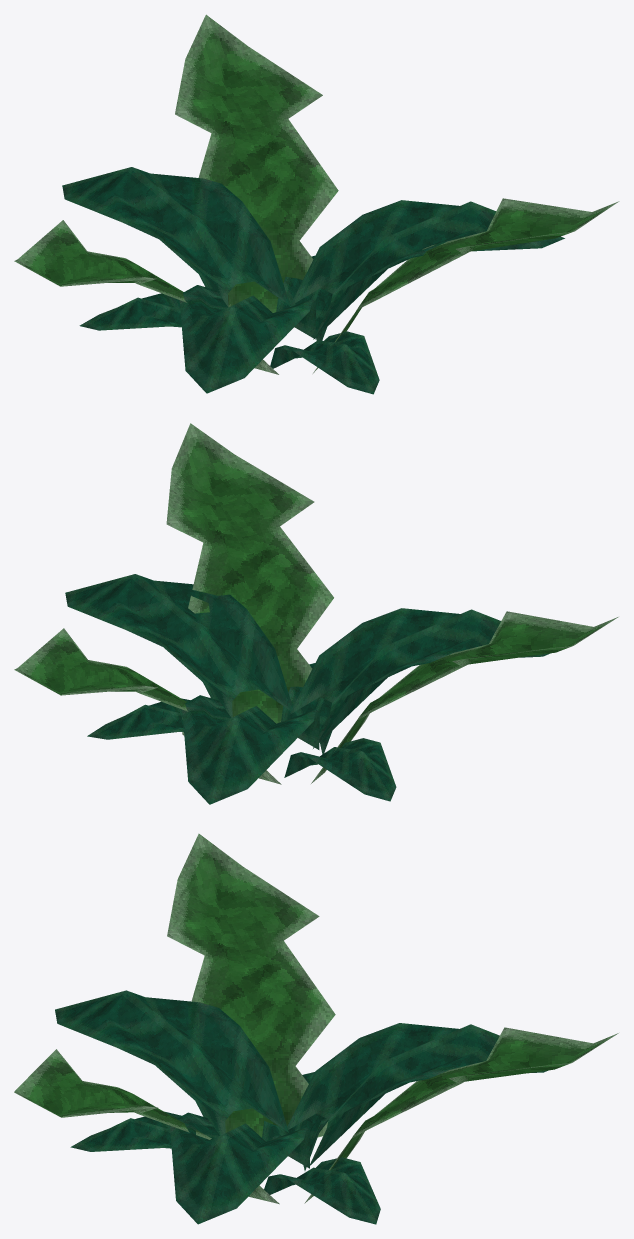
File: grass_04.glb
3 renders of one model, top to bottom at view 1: azimuth 30°, elevation 25°; view 2: azimuth 150°, elevation 25°; view 3: azimuth 270°, elevation 25°, orthographic. The views are drawn at different scales.
Visible parts, largest first — view 1: GRASS_04-no-col; view 2: GRASS_04-no-col; view 3: GRASS_04-no-col.
Boxes of the visible parts, left/top/right/bottom form: GRASS_04-no-col: left=14, top=14, right=619, bottom=394; GRASS_04-no-col: left=14, top=423, right=618, bottom=804; GRASS_04-no-col: left=14, top=833, right=618, bottom=1224.
Bounding box in the file's own units: 1.29 × 0.4314 × 1.2.
1 material, 1 textured.
